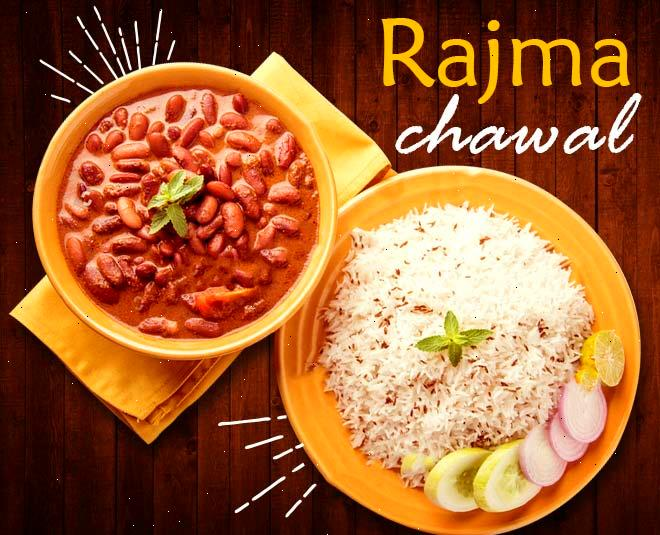rajma: (46, 103, 303, 341)
rice: (357, 220, 546, 441)
